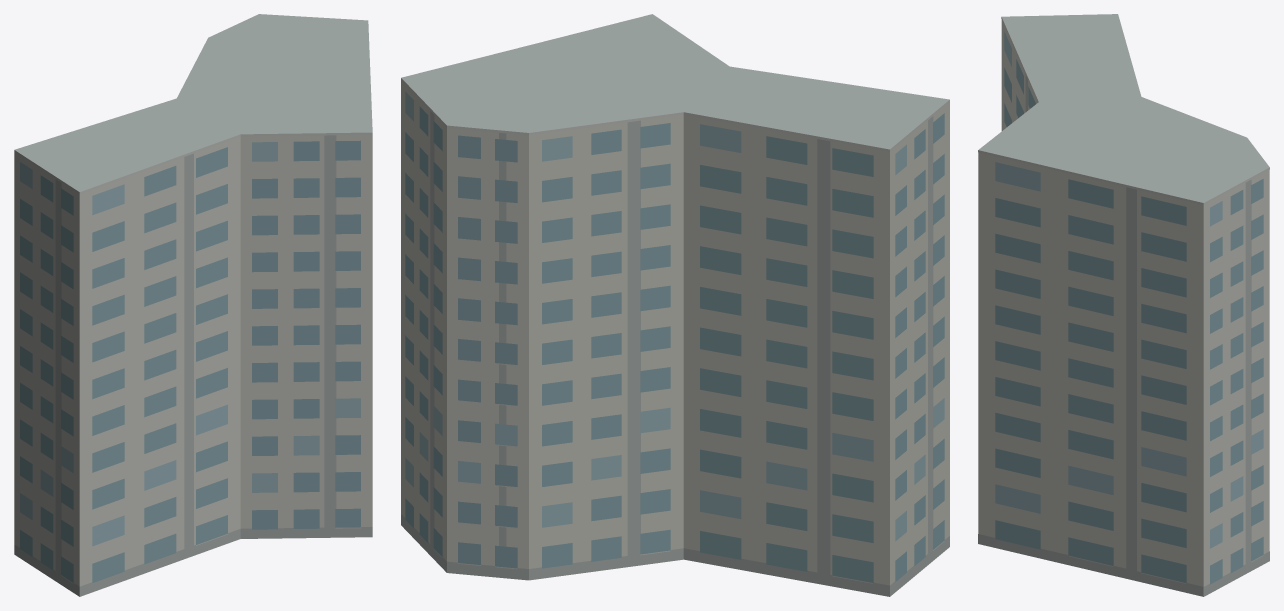
The model's file is residential-a471ddac-bb57-4021-971e-7ff197be136d.glb.
The picture shows the model from 3 angles, left to right: view 1: azimuth 30°, elevation 25°; view 2: azimuth 150°, elevation 25°; view 3: azimuth 270°, elevation 25°; orthographic projection. The views are drawn at different scales.
Parts seen in each view (by area): view 1: residential-a471ddac-bb57-4021-971e-7ff197be136d.tmp; view 2: residential-a471ddac-bb57-4021-971e-7ff197be136d.tmp; view 3: residential-a471ddac-bb57-4021-971e-7ff197be136d.tmp.
Part boxes in pixels (x1=…): residential-a471ddac-bb57-4021-971e-7ff197be136d.tmp: x1=14, y1=14, x2=372, y2=596; residential-a471ddac-bb57-4021-971e-7ff197be136d.tmp: x1=401, y1=14, x2=949, y2=596; residential-a471ddac-bb57-4021-971e-7ff197be136d.tmp: x1=978, y1=14, x2=1269, y2=596.
Bounding box in the file's own units: 43.25 × 42 × 28.2.
